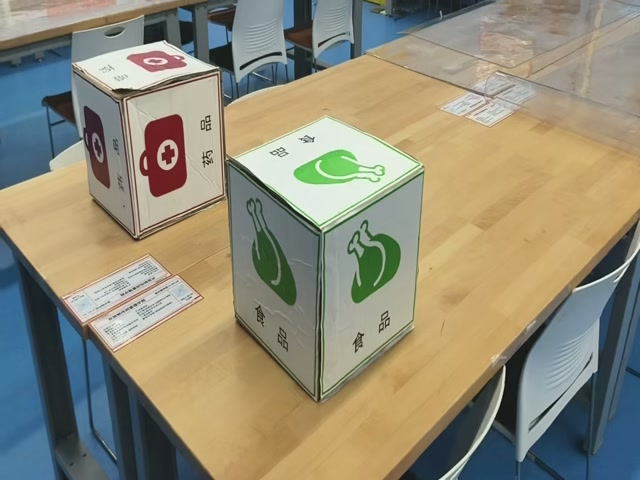Cube_food: (226, 119, 421, 249)
Cube_medicine: (69, 42, 220, 97)
